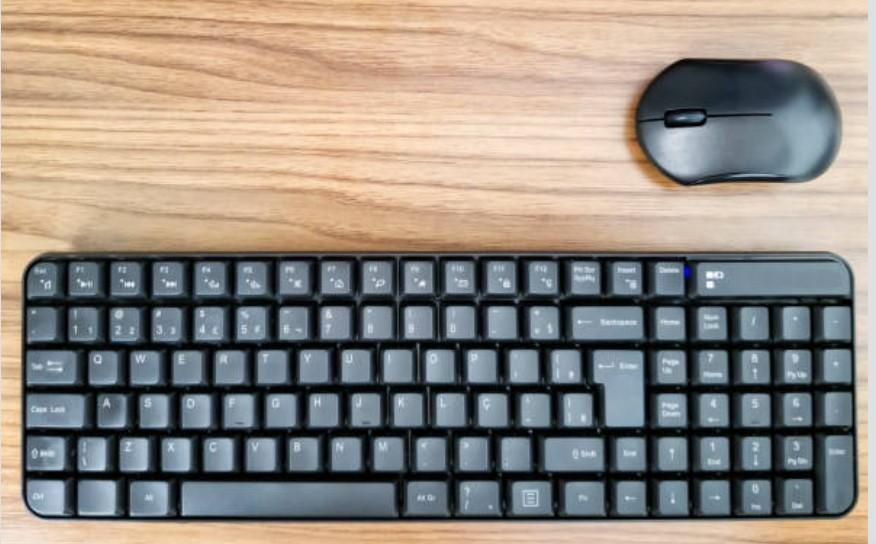Keyboard: (17, 251, 867, 528)
computer mouse: (630, 58, 843, 187)
